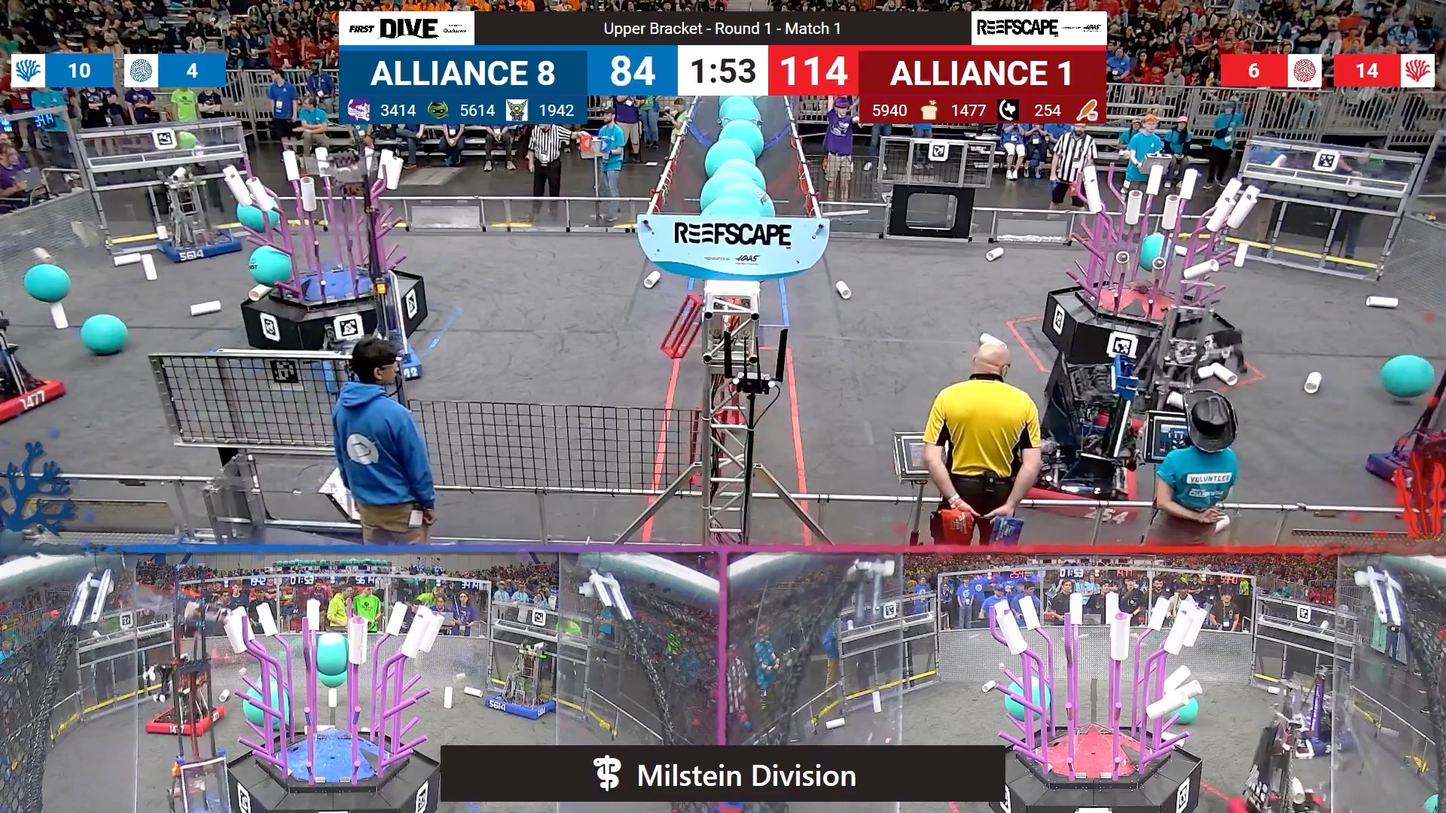bumpers: (1011, 448, 1150, 527), (309, 343, 433, 391), (1366, 437, 1446, 501), (0, 371, 75, 430), (1272, 715, 1357, 767), (139, 703, 226, 738), (157, 237, 253, 268), (481, 688, 563, 723), (1229, 786, 1333, 813)
